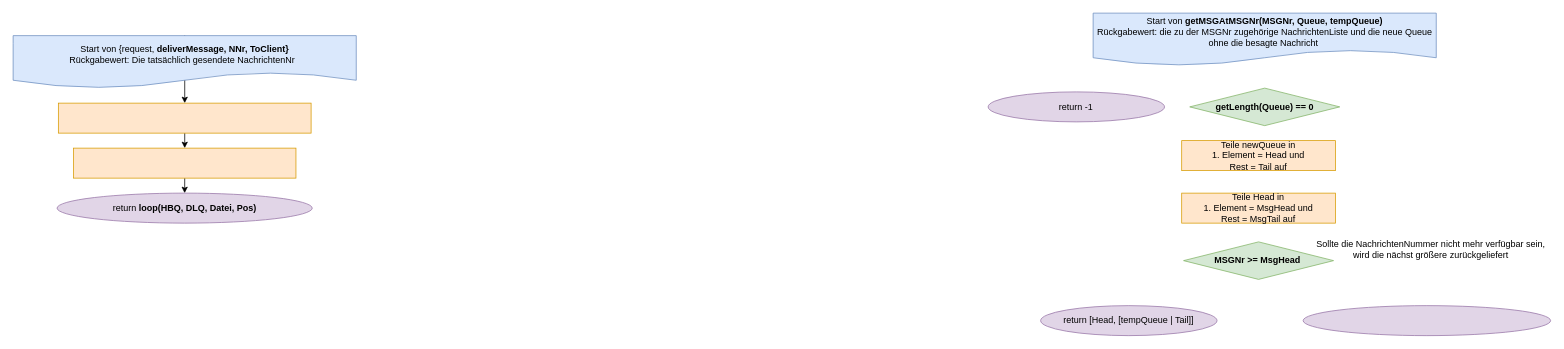
Some shapes in this 1564 by 349 pixel diagram are drawn without their labels. The shapes that lost their labels are listed below. From the top down, each one's centre as x and y in pixels, then its label:
(x=184, y=117): SendeNr = dlq:deliverMSG(Nnr, ToClient, DLQ, Datei)
(x=184, y=162): From ! {reply, SendeNr}
(x=1426, y=320): getMSGAtMSGNr(MSGNr, Tail, [tempQueue | Head])
